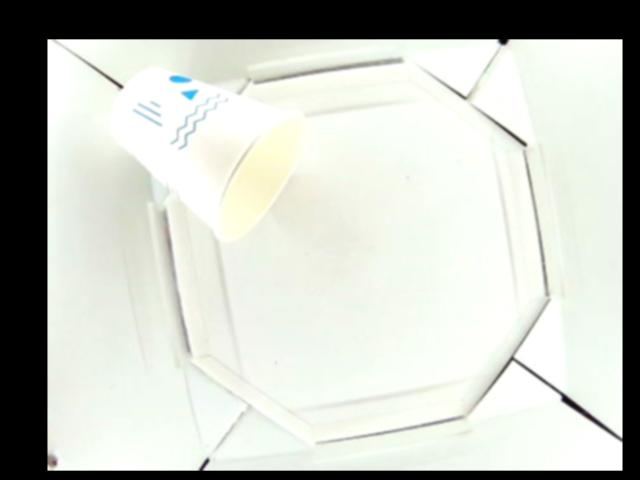Cup: (109, 67, 306, 243)
